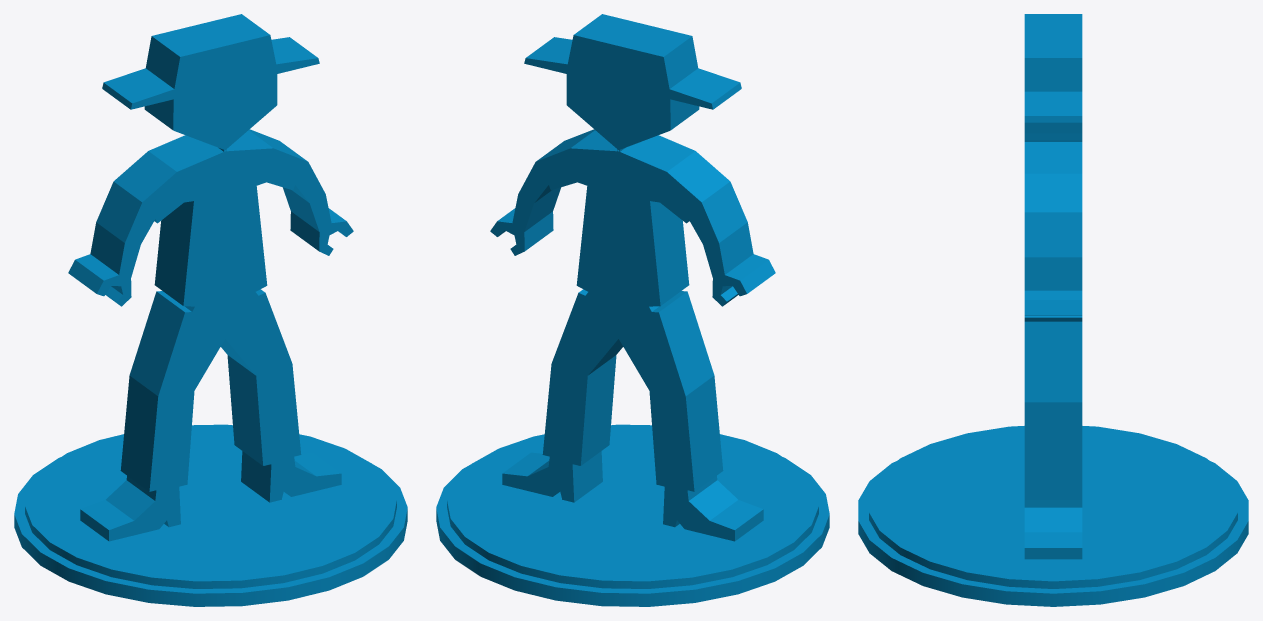
File: michel.gltf
3 views of the same model, side by side, from view 1: azimuth 30°, elevation 25°; view 2: azimuth 150°, elevation 25°; view 3: azimuth 270°, elevation 25° (orthographic).
Parts seen in each view (by area): view 1: michellle; view 2: michellle; view 3: michellle.
Boxes of the visible parts, left/top/right/bottom form: michellle: left=14, top=14, right=407, bottom=606; michellle: left=436, top=14, right=829, bottom=606; michellle: left=858, top=14, right=1248, bottom=606.
Bounding box in the file's own units: 0.6339 × 0.8675 × 0.6292.
